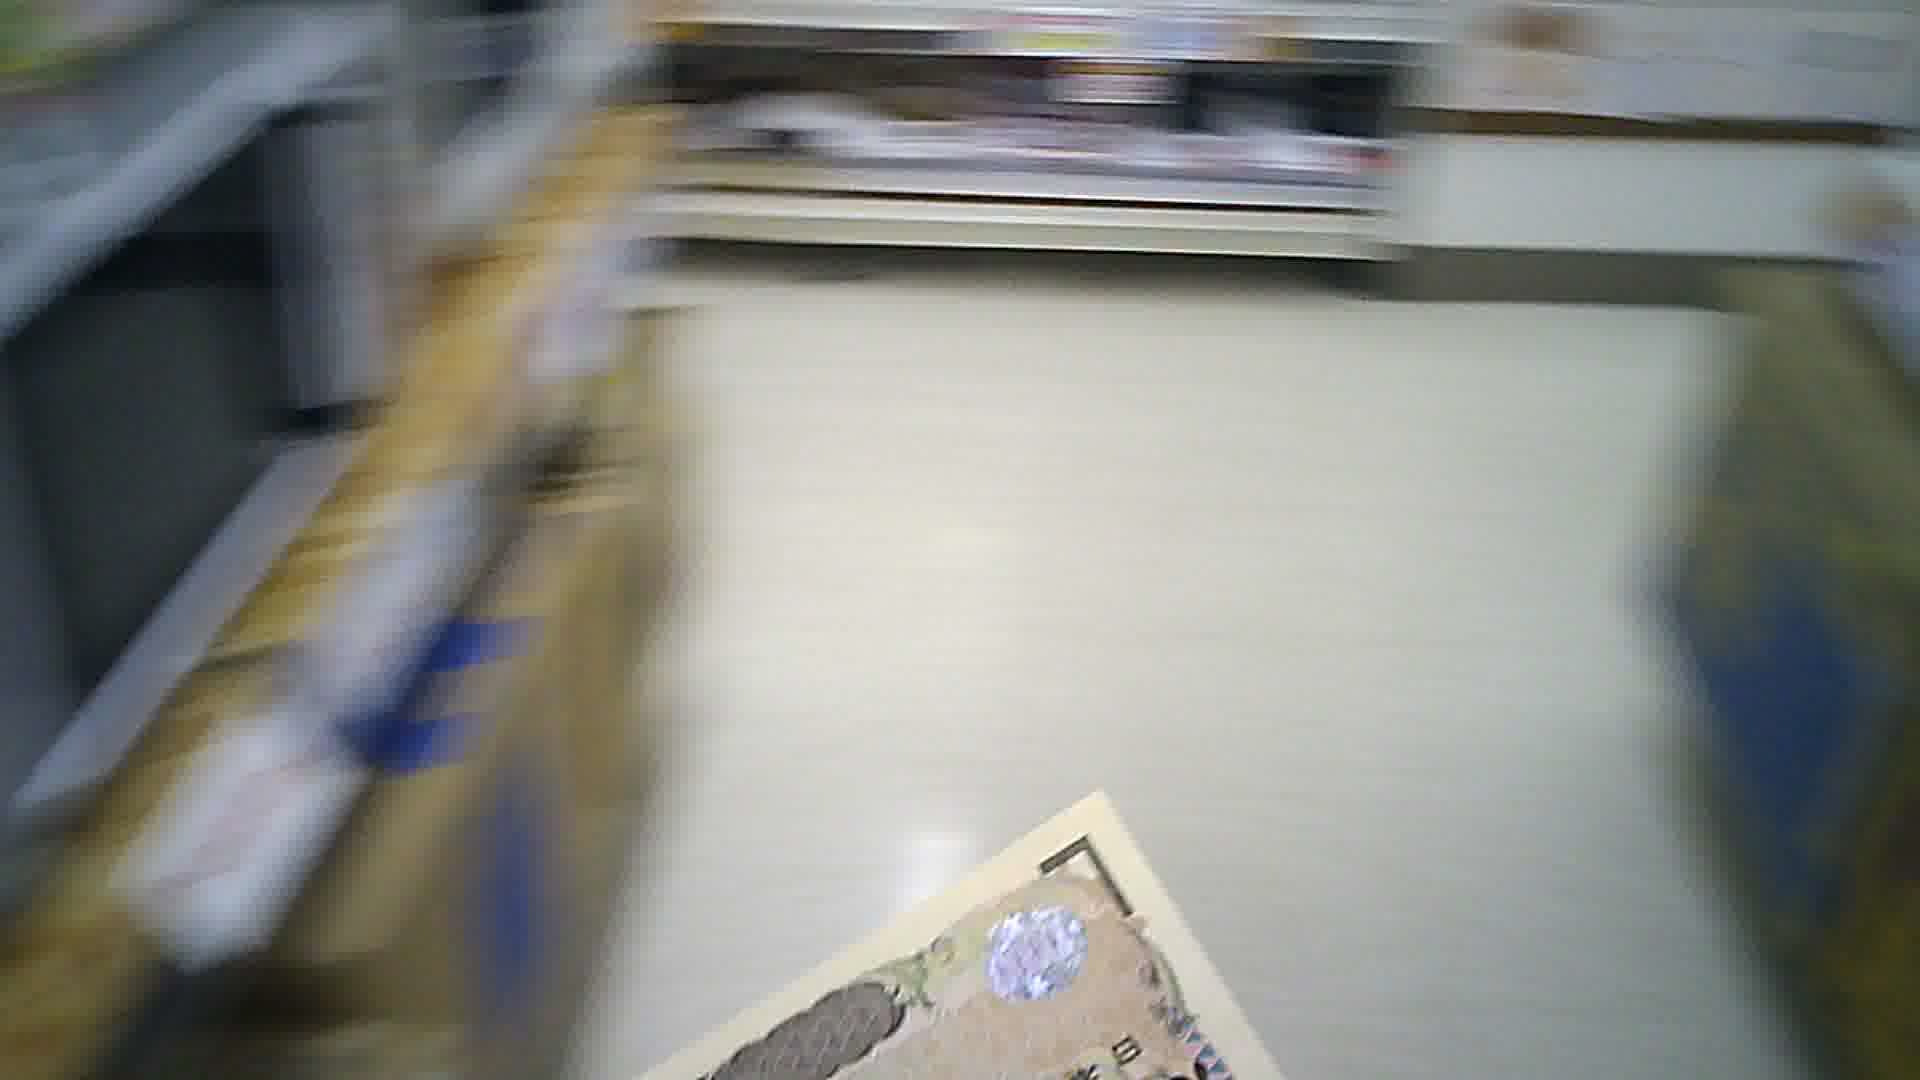10,000 Yen: (673, 791, 1300, 1079)
